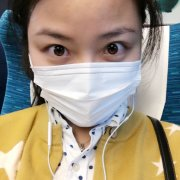face_mask: (30, 1, 143, 127)
